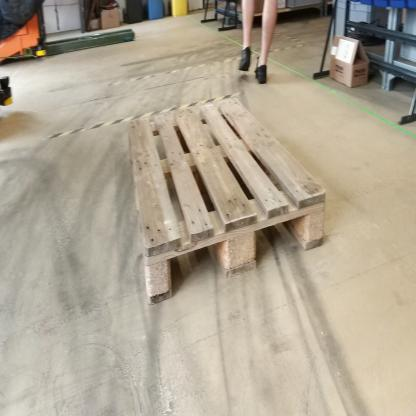BoxFace: (125, 92, 331, 312)
